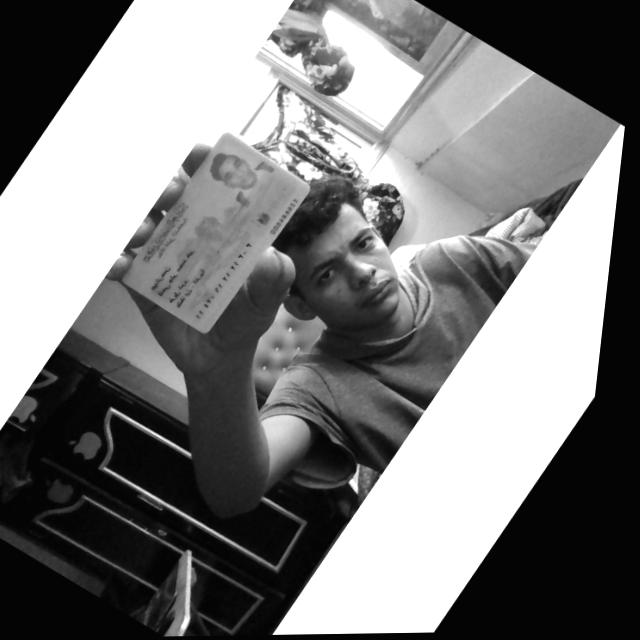front: (124, 131, 310, 332)
